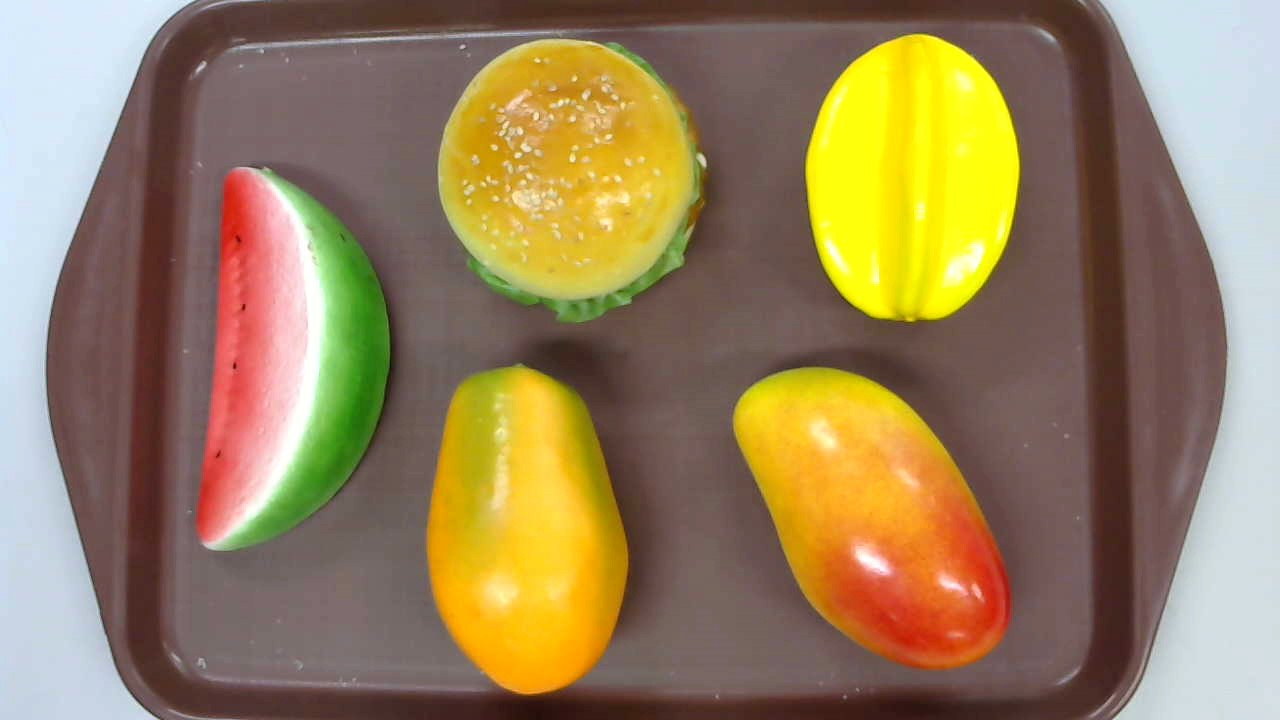hamburger: (438, 38, 709, 322)
papya: (425, 363, 629, 695)
red mango: (732, 367, 1011, 668)
star fruit: (804, 34, 1020, 321)
water melon: (194, 165, 389, 552)
